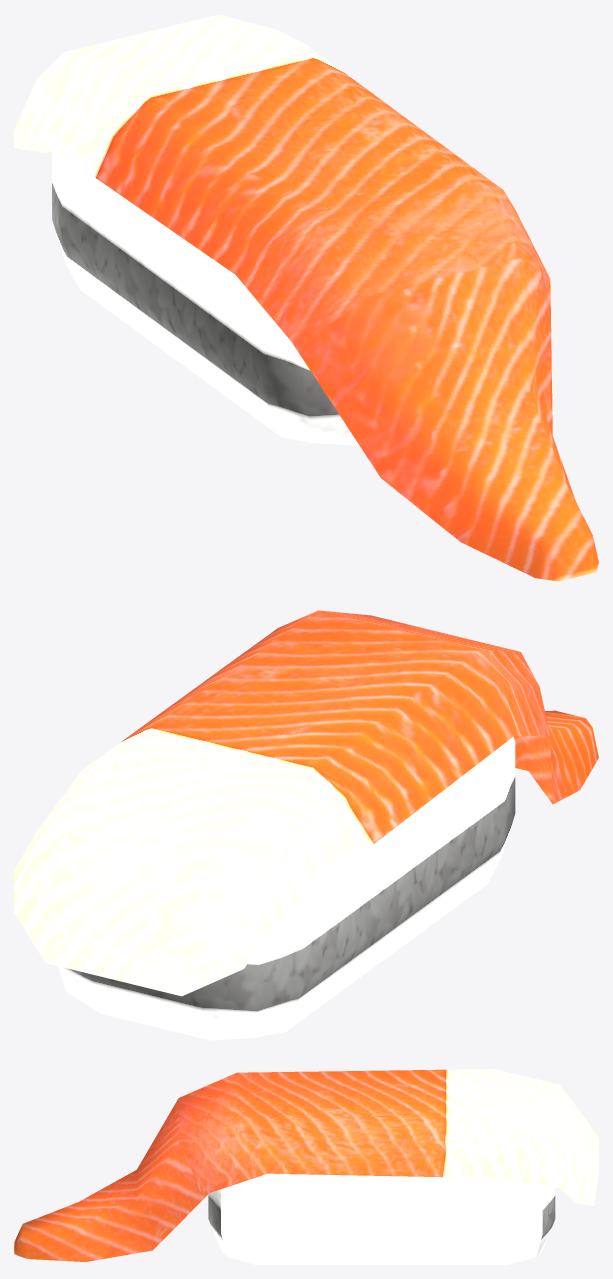
File: SM_Salmon_03.fbx
3 renders of one model, top to bottom at view 1: azimuth 30°, elevation 25°; view 2: azimuth 150°, elevation 25°; view 3: azimuth 270°, elevation 25°, orthographic. The views are drawn at different scales.
Visible parts, largest first — view 1: SM_Salmon_03_LOD0; view 2: SM_Salmon_03_LOD0; view 3: SM_Salmon_03_LOD0.
Part boxes in pixels (left/top/right/bottom): SM_Salmon_03_LOD0: left=14, top=14, right=598, bottom=581; SM_Salmon_03_LOD0: left=14, top=610, right=598, bottom=1040; SM_Salmon_03_LOD0: left=14, top=1069, right=598, bottom=1264.
Size of the model in its own units: 3.48 by 10.12 by 2.97.
